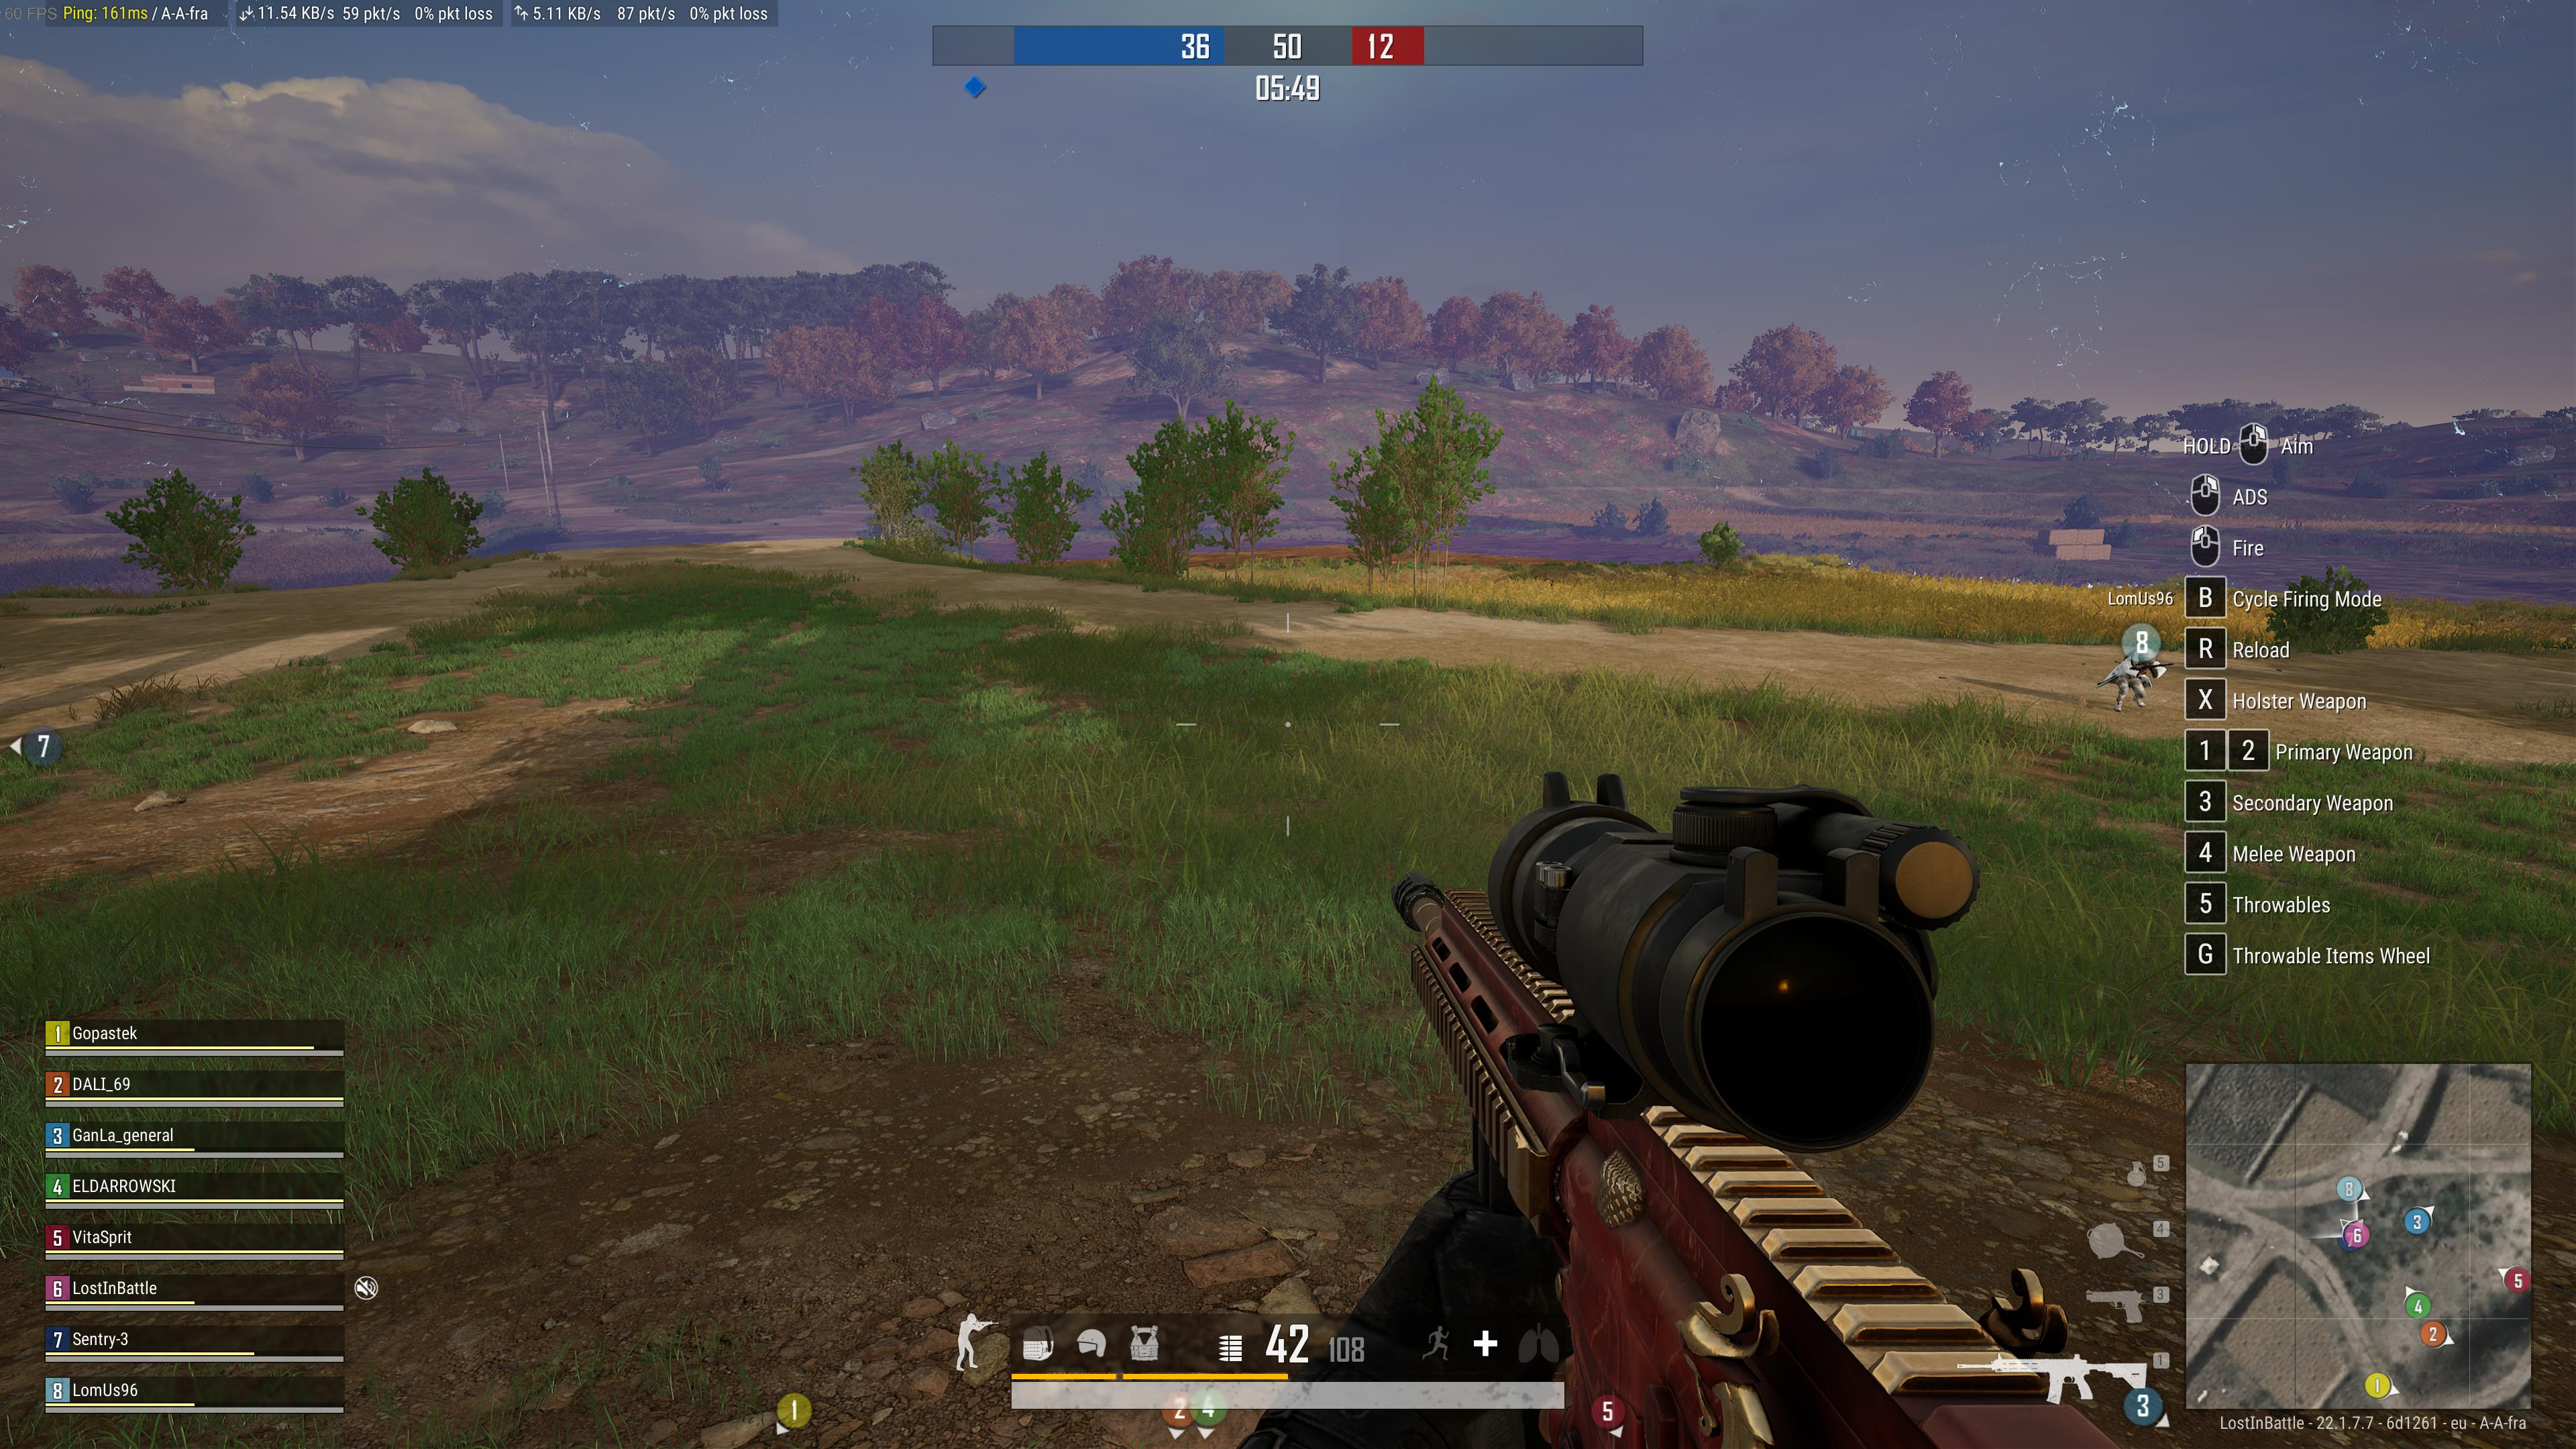friendly: (2095, 633, 2167, 713)
